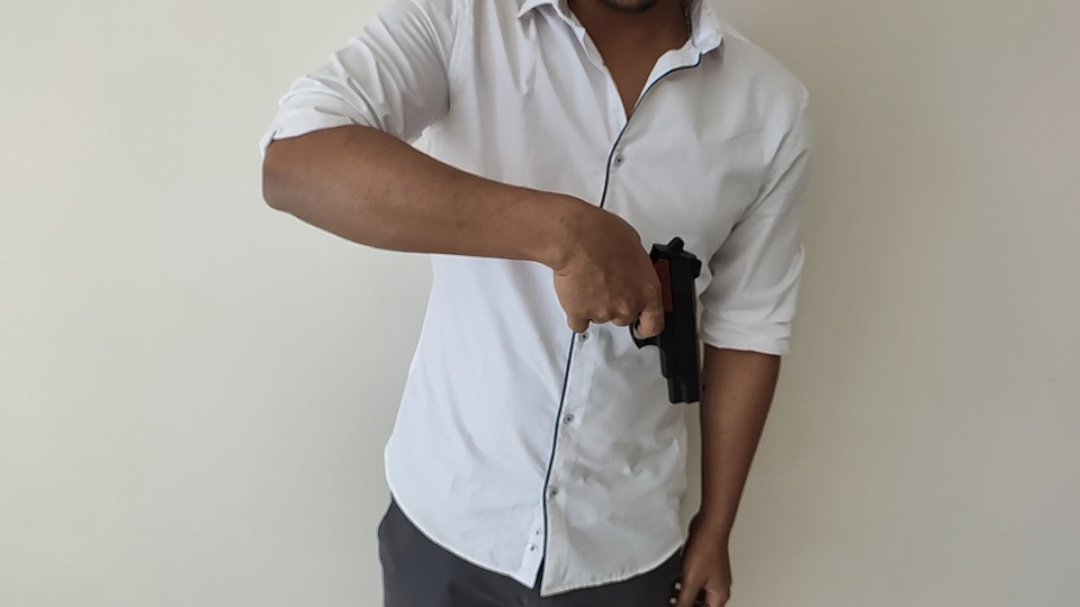gun: (630, 235, 708, 406)
